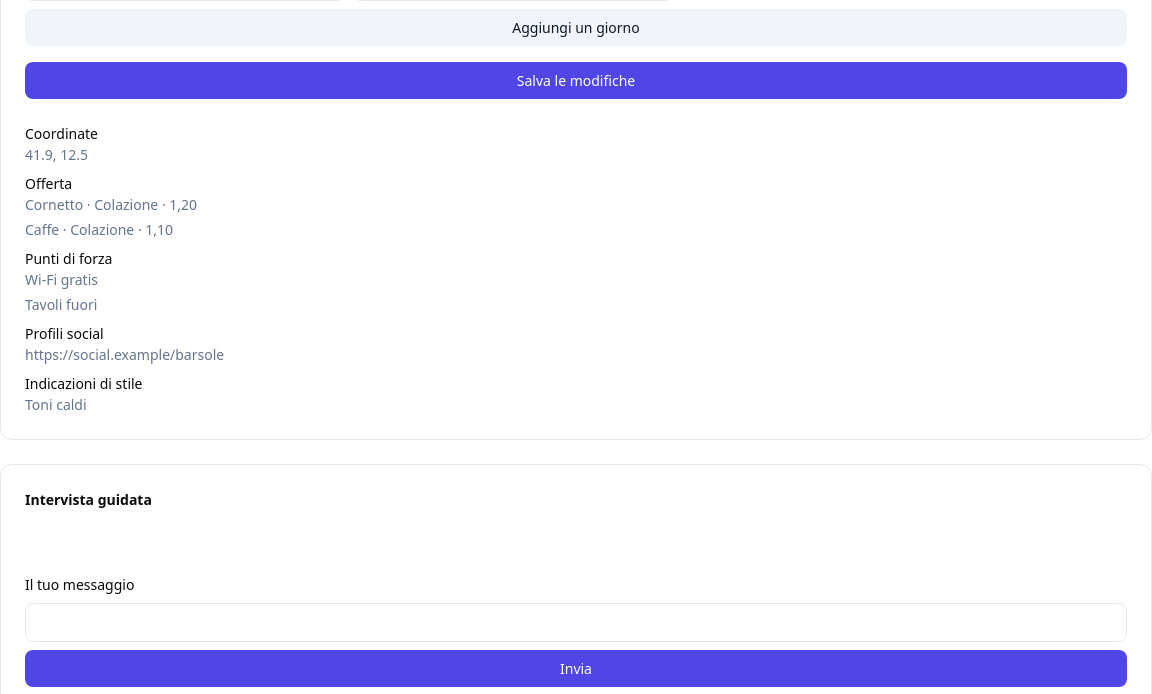
Scenario: T-151 ChatPanel: turni assistente/utente › testo assistente vuoto: al posto della bolla vuota si rende una nota localizzata
(page scrolled)
Type "Ciao" into the field labelled "Il tuo messaggio" at (576, 622), box [25,603,1127,642]
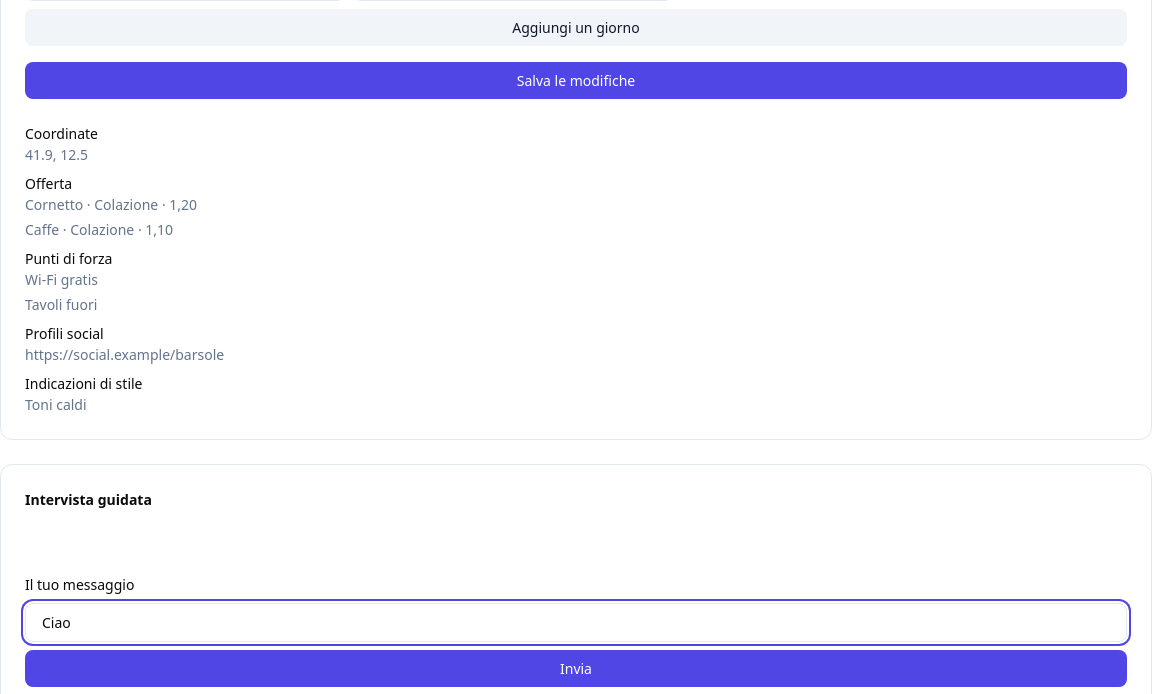
Click the button "Invia" at (576, 668), box [25,650,1127,687]
(page scrolled)
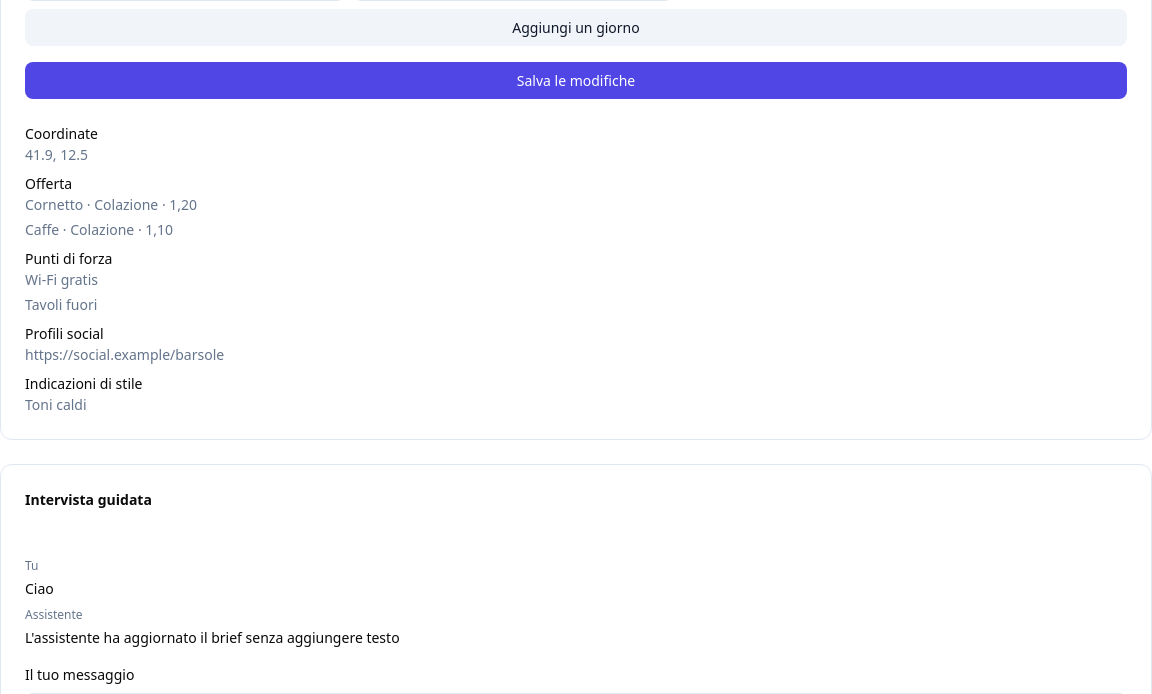
Result: the text "L'assistente ha aggiornato il brief senza aggiungere testo" is shown at [25,628,400,647]
